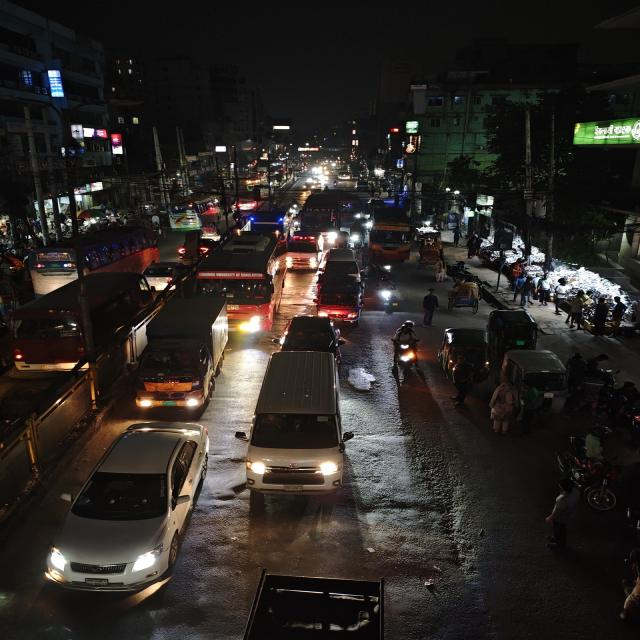bus: (8, 272, 147, 372), (21, 222, 159, 288), (198, 231, 284, 334), (366, 206, 415, 258), (296, 192, 343, 236), (166, 196, 221, 231)
car: (44, 420, 210, 604), (247, 347, 351, 498), (501, 347, 571, 403), (280, 314, 344, 356), (285, 231, 323, 270), (144, 260, 188, 290), (175, 233, 216, 257)
cng: (439, 324, 493, 382), (490, 308, 540, 350), (198, 218, 224, 240)
motorcycle: (561, 454, 620, 514), (391, 320, 423, 375), (374, 274, 402, 312), (618, 389, 640, 433), (624, 496, 640, 541)
pedestrian: (540, 476, 579, 552), (563, 289, 586, 332), (418, 287, 441, 327), (566, 351, 588, 391)
pickup_van: (314, 277, 362, 325)
rickshaw: (446, 279, 481, 315), (415, 241, 446, 279)
truck: (137, 295, 231, 409), (245, 209, 282, 234)
